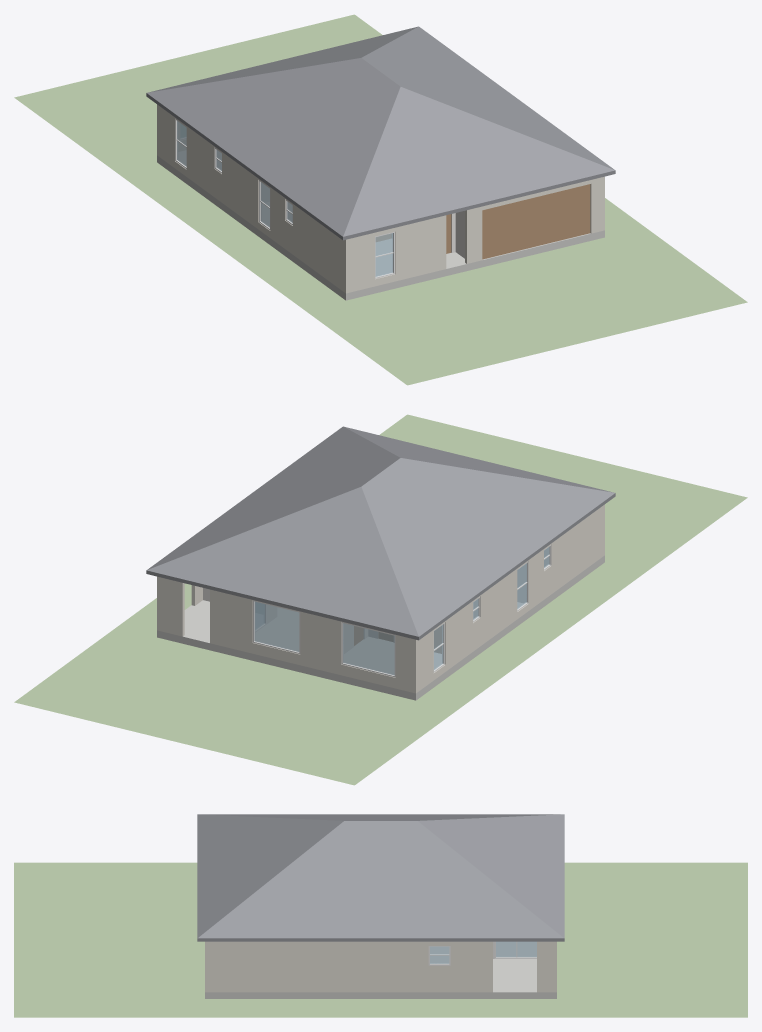
The picture shows the model from 3 angles, top to bottom: view 1: azimuth 30°, elevation 25°; view 2: azimuth 150°, elevation 25°; view 3: azimuth 270°, elevation 25°; orthographic projection. The views are drawn at different scales.
Visible parts, largest first — view 1: Lot, Hip roof, Wall ext-left, Wall ext-front, Door GD, Floor First Floor, Window N01; view 2: Lot, Hip roof, Wall ext-back, Wall ext-left, Floor First Floor, Window S01, Window S02; view 3: Lot, Hip roof, Wall ext-right, Floor First Floor, Door D13, Window N09.
Part boxes in pixels (bbox=[...]): Lot: bbox=[14, 14, 747, 385]; Hip roof: bbox=[146, 26, 615, 240]; Wall ext-left: bbox=[159, 106, 343, 291]; Wall ext-front: bbox=[344, 176, 604, 293]; Door GD: bbox=[482, 184, 590, 259]; Floor First Floor: bbox=[157, 150, 604, 300]; Window N01: bbox=[375, 233, 393, 276]; Lot: bbox=[14, 414, 747, 785]; Hip roof: bbox=[146, 426, 615, 640]; Wall ext-back: bbox=[157, 576, 417, 693]; Wall ext-left: bbox=[418, 506, 602, 691]; Floor First Floor: bbox=[157, 555, 604, 700]; Window S01: bbox=[343, 623, 394, 675]; Window S02: bbox=[254, 601, 299, 651]; Lot: bbox=[14, 862, 747, 1017]; Hip roof: bbox=[197, 814, 564, 941]; Wall ext-right: bbox=[208, 941, 553, 992]; Floor First Floor: bbox=[205, 942, 556, 998]; Door D13: bbox=[496, 941, 536, 957]; Window N09: bbox=[430, 946, 449, 963].
Size of the model in its own units: 15.24 by 5.46 by 30.48.
